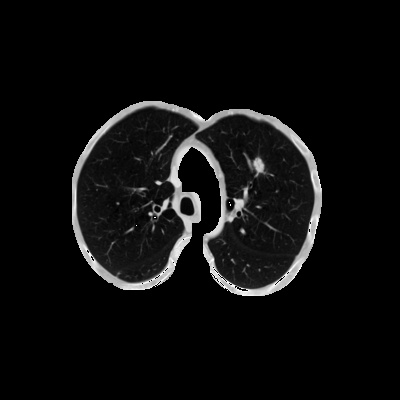PN: (253, 159, 265, 171)
